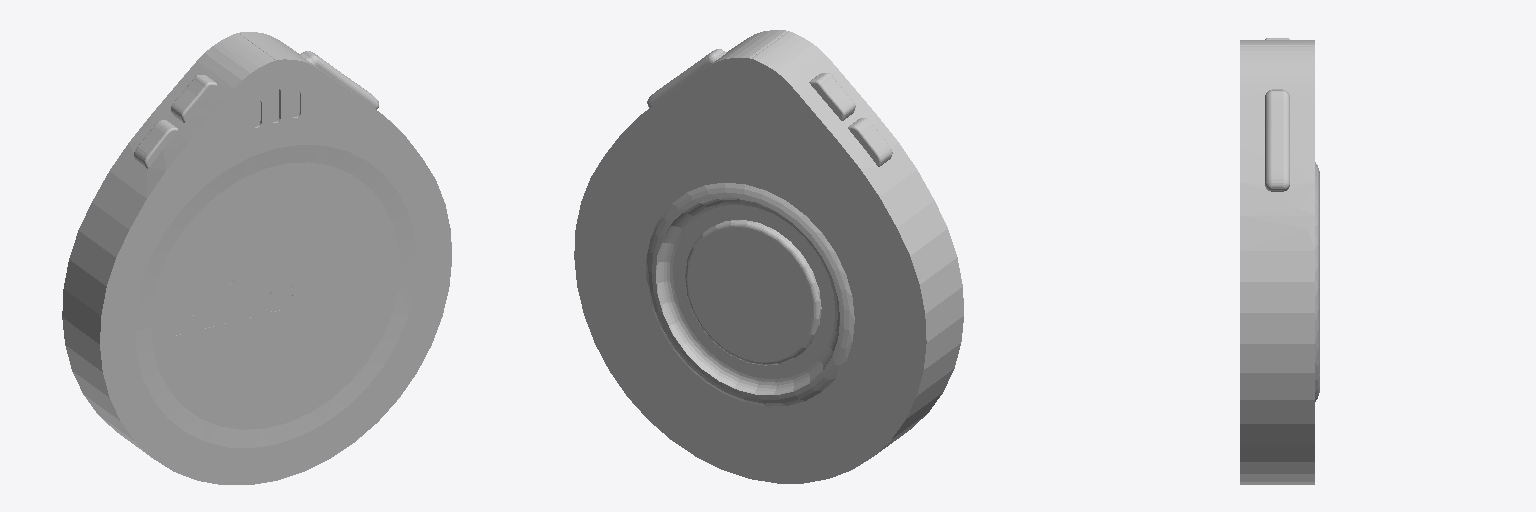
3 renders of one model, left to right at view 1: azimuth 30°, elevation 25°; view 2: azimuth 150°, elevation 25°; view 3: azimuth 270°, elevation 25°, orthographic.
Visible parts, largest first — view 1: miloberry_re-drawn_v5; view 2: miloberry_re-drawn_v5; view 3: miloberry_re-drawn_v5.
Boxes of the visible parts, x1,y1,x2,y2 form: miloberry_re-drawn_v5: [62, 32, 451, 484]; miloberry_re-drawn_v5: [574, 30, 963, 483]; miloberry_re-drawn_v5: [1240, 38, 1319, 484].
Size of the model in its own units: 16.19 by 18.47 by 3.2.